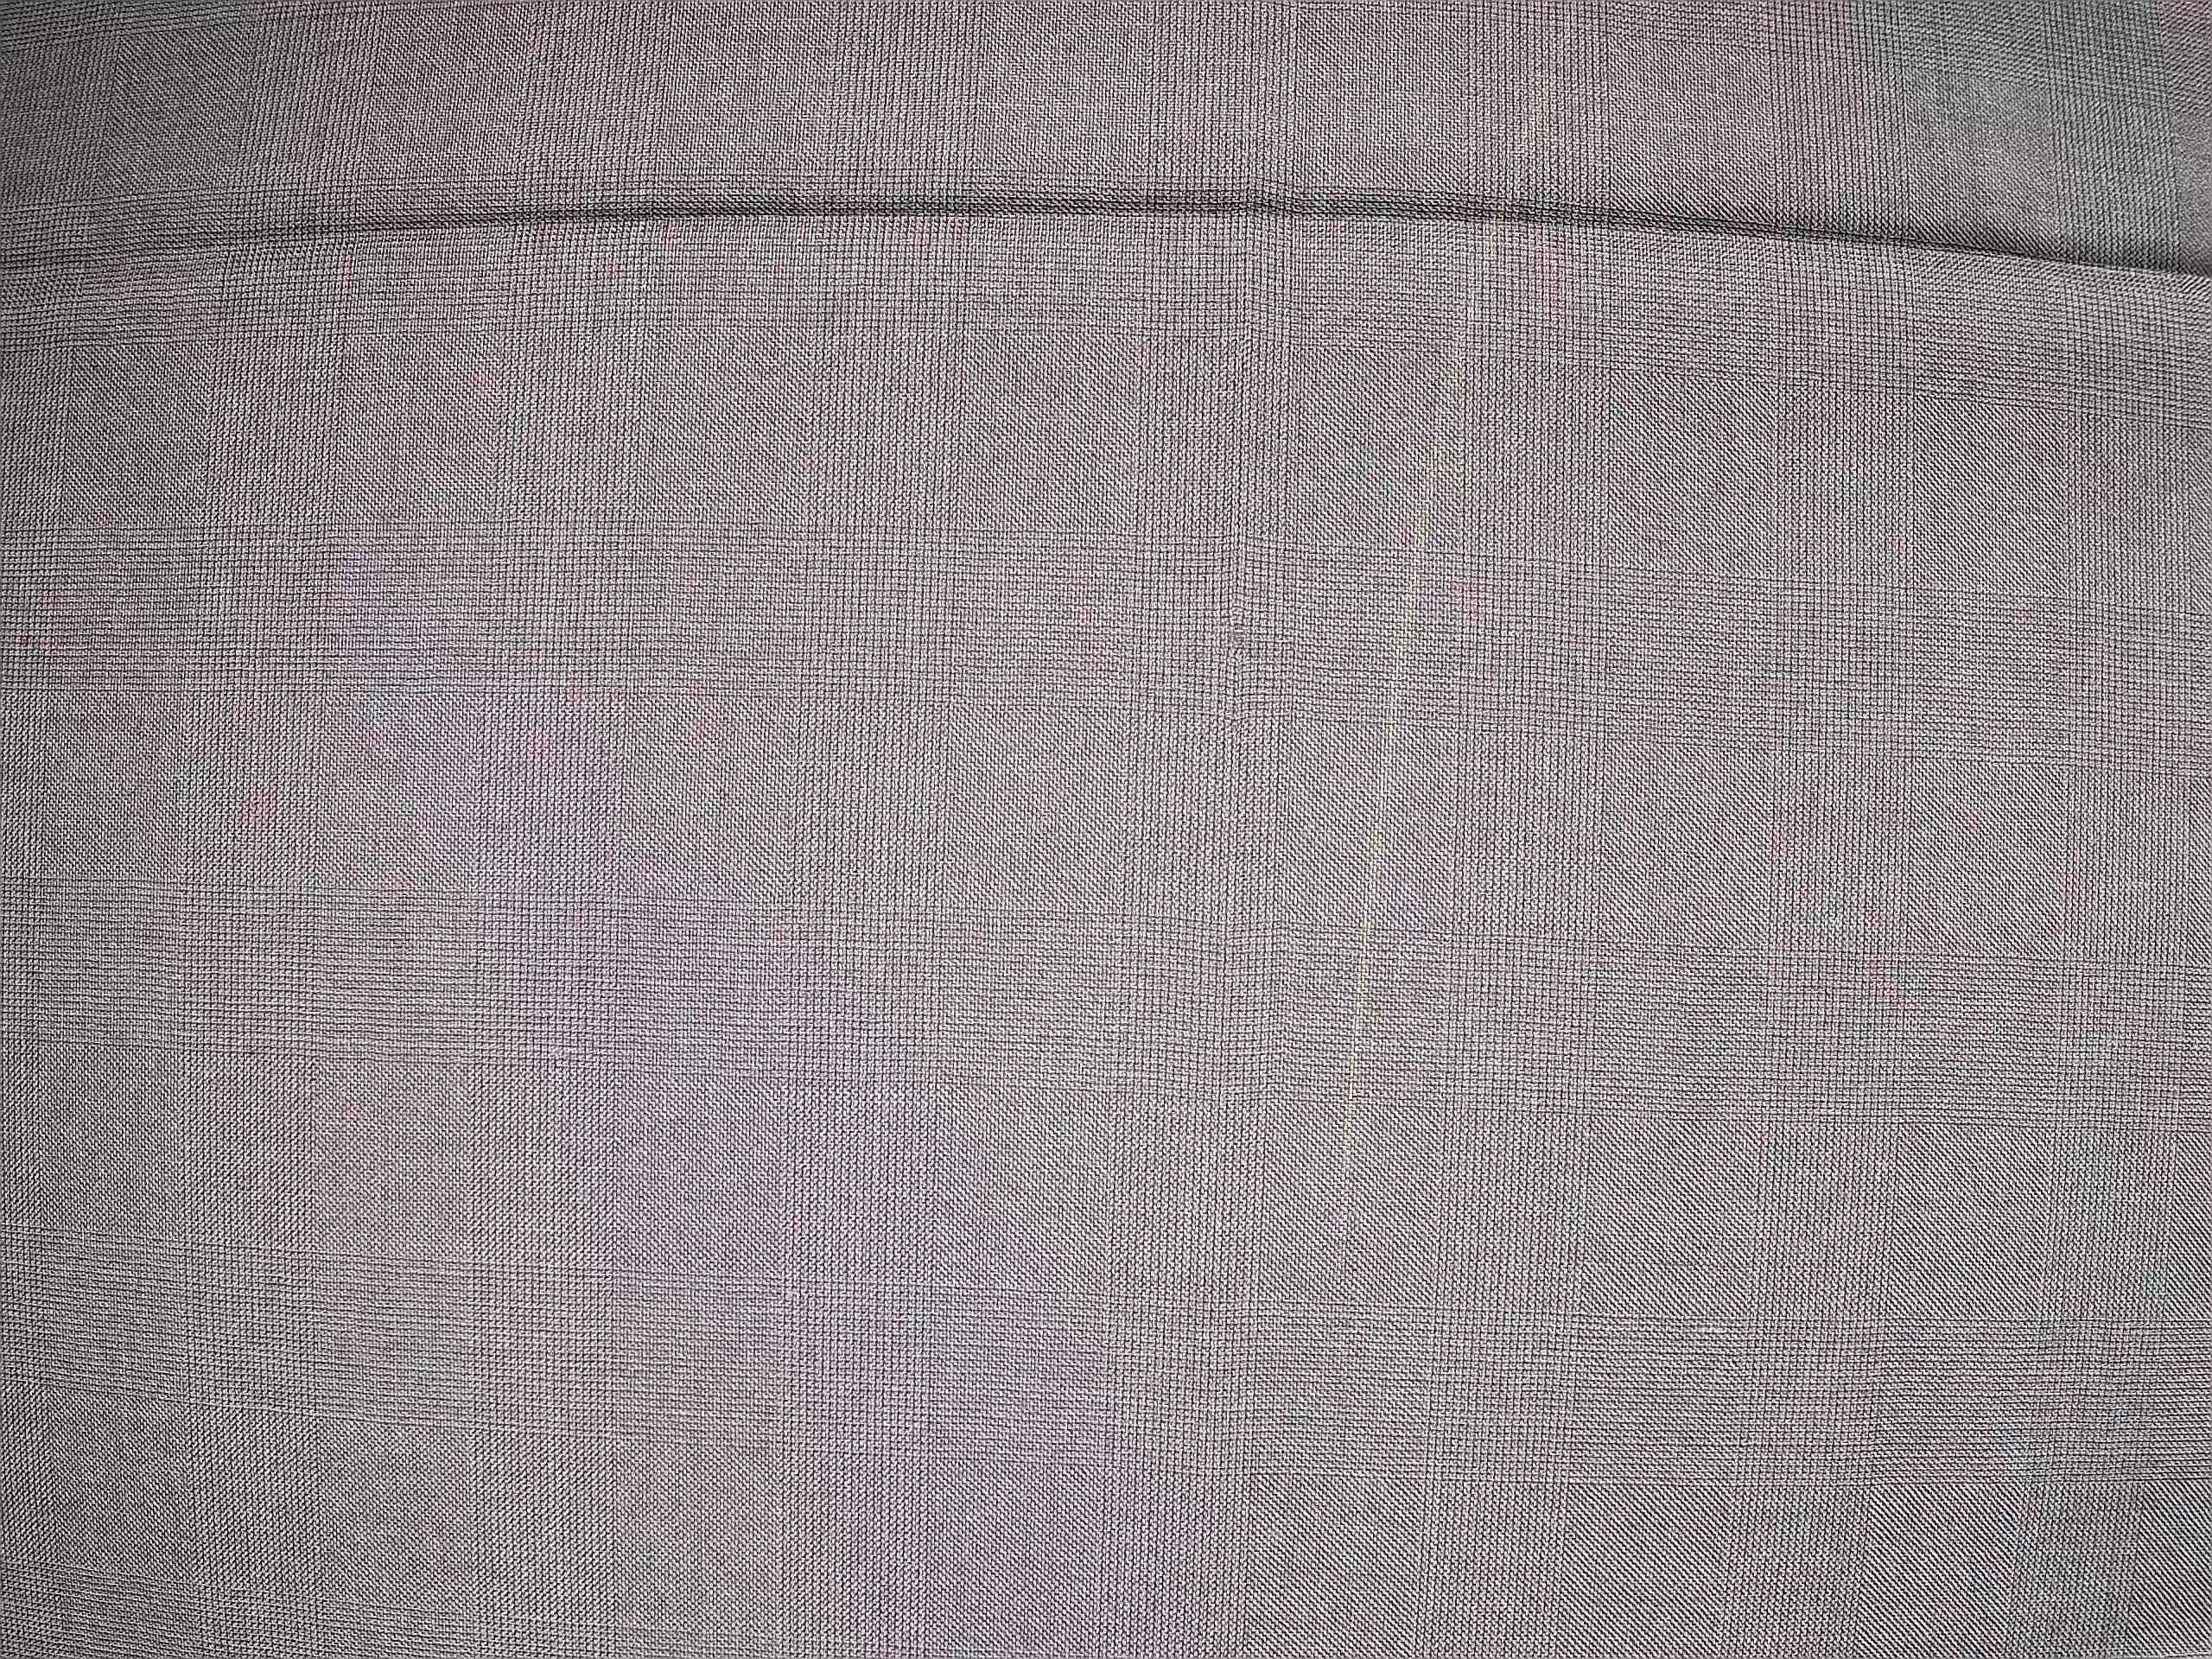hanging-warp: (1197, 554, 1305, 769)
